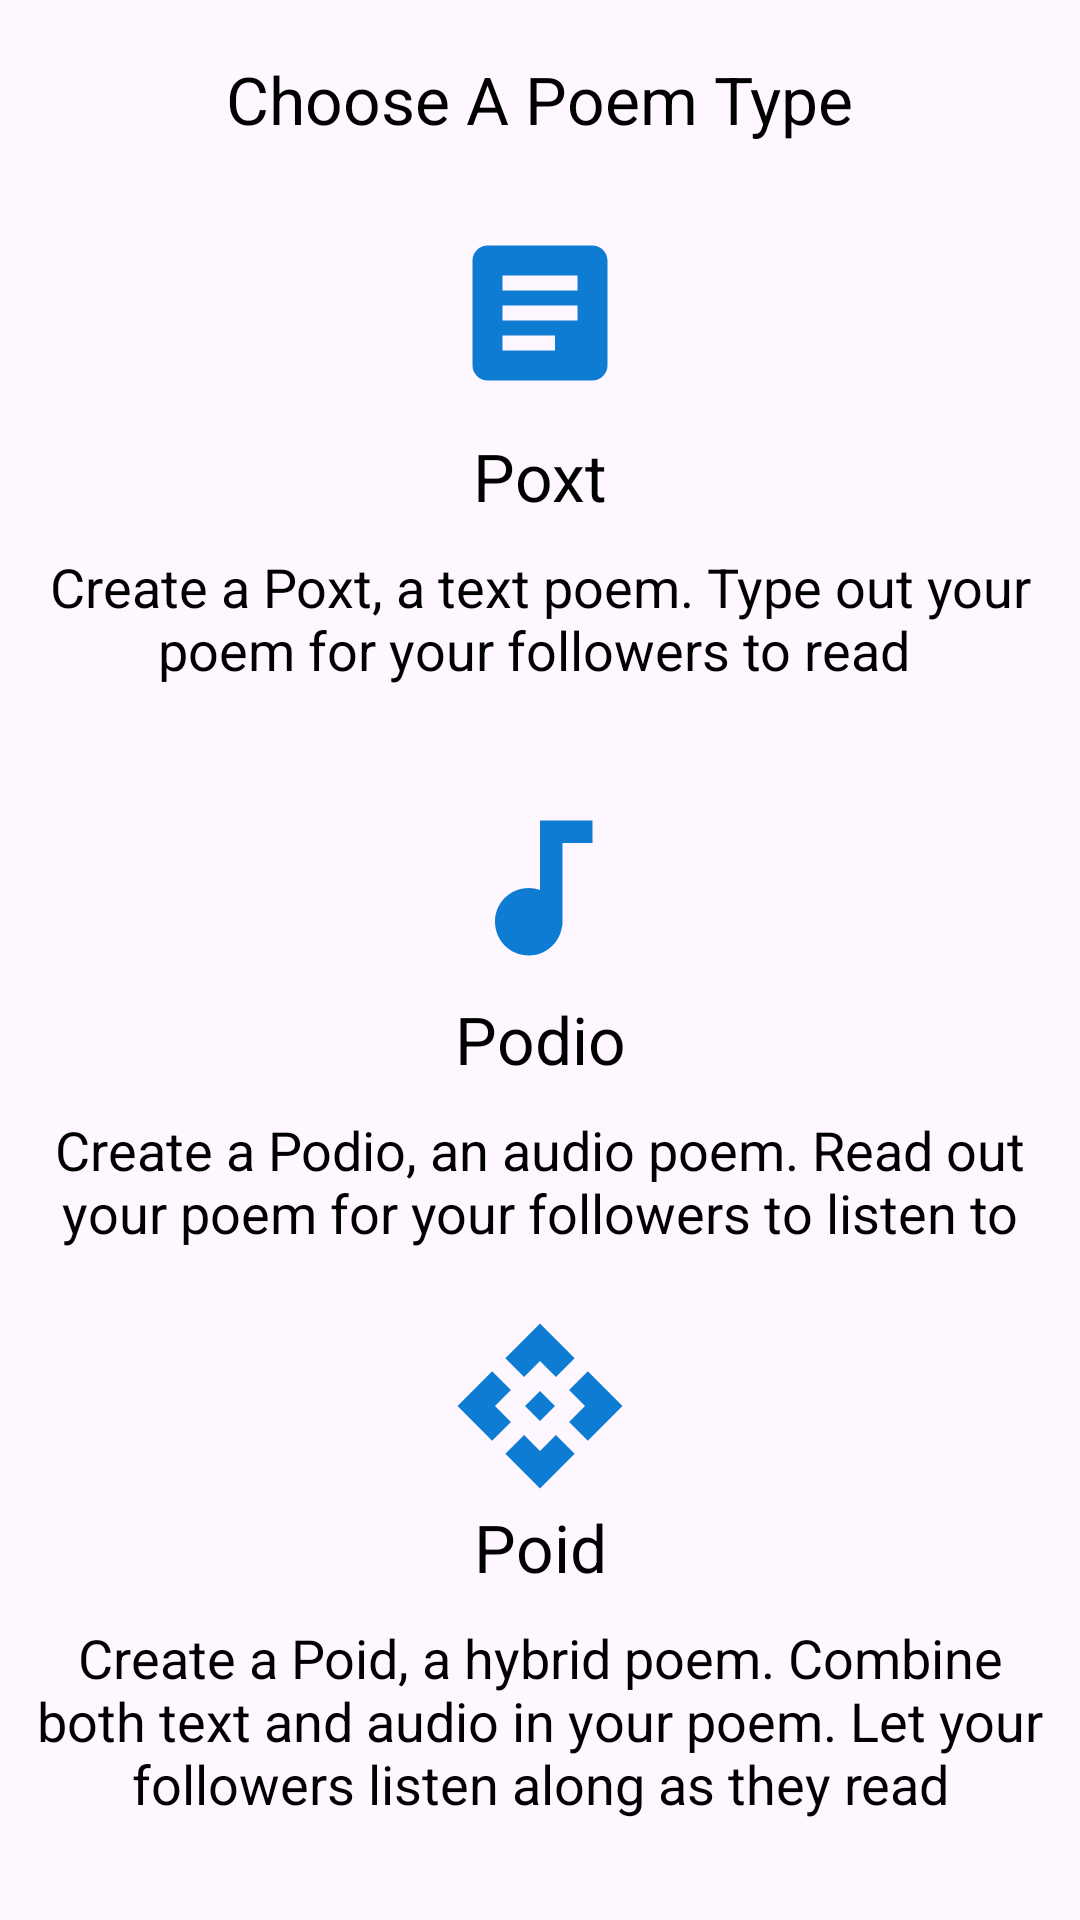

Locate icon controls on the screen. Image size 1080x1920, boxes as region(x1, y1, x2, y2).
textarticle: region(472, 245, 608, 381)
